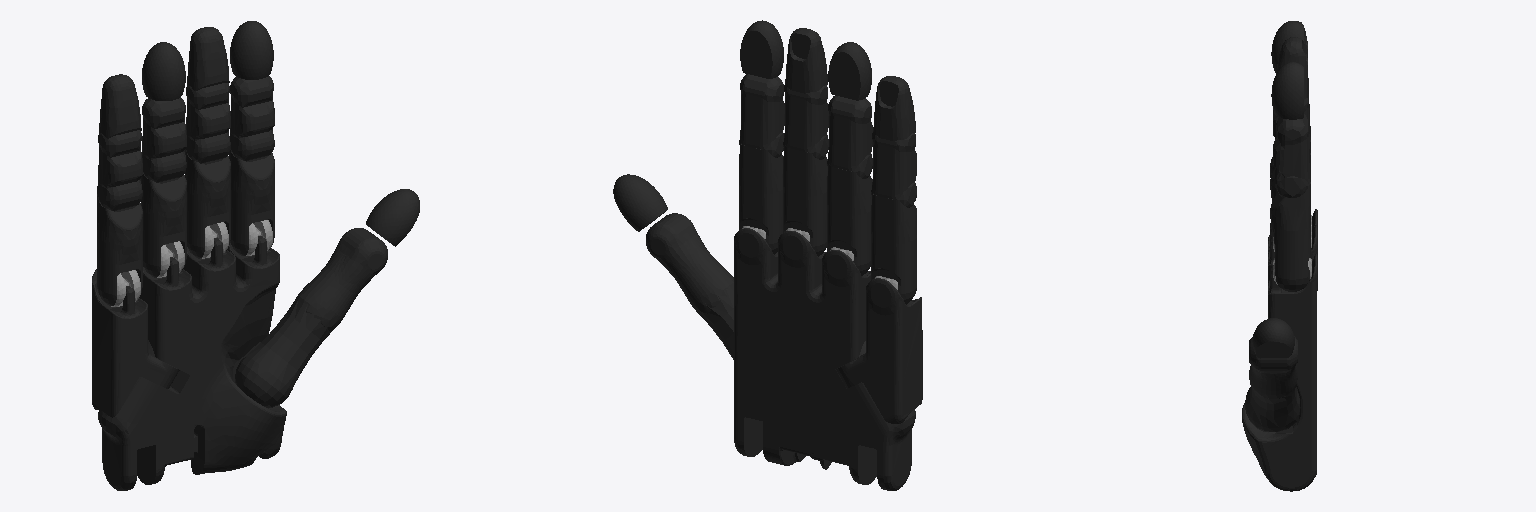
The robot description file, URDF, robot "shadowhand":
<robot name="shadowhand">
  <material name="Blue">
    <color rgba="0.0 0.0 0.8 1.0" />
  </material>
  <material name="Green">
    <color rgba="0.0 0.8 0.0 1.0" />
  </material>
  <material name="Grey">
    <color rgba="0.2 0.2 0.2 1.0" />
  </material>
  <material name="LightGrey">
    <color rgba="0.6 0.6 0.6 1.0" />
  </material>
  <material name="Red">
    <color rgba="0.8 0.0 0.0 1.0" />
  </material>
  <material name="White">
    <color rgba="1.0 1.0 1.0 1.0" />
  </material>
  <link name="palm">
    <inertial>
      <origin rpy="0 0 0" xyz="0 0 0.035" />
      <mass value="0.3" />
      <inertia ixx="0.5" ixy="0.0" ixz="0.0" iyy="0.5" iyz="0.0" izz="0.3" />
    </inertial>
    <visual>
      <origin rpy="0 0 0" xyz="0 0 0" />
      <geometry name="palm_visual">
        <mesh filename="meshes/palm.obj" scale="0.1 0.1 0.1" />
      </geometry>
      <material name="Grey" />
    </visual>
    <collision>
      <origin rpy="0 0 0" xyz="0.005 0 0.035" />
      <geometry name="palm_collision_geom">
        <box size="0.05 0.02 0.07" />
      </geometry>
    </collision>
  </link>
  <link name="ffknuckle">
    <inertial>
      <origin rpy="0 0 0" xyz="0 0 0" />

      <mass value="0.008" />
      <inertia ixx="0.0" ixy="0.0" ixz="0.0" iyy="0.1" iyz="0.0" izz="0.0" />
    </inertial>
    <visual>
      <origin rpy="0 0 0" xyz="0 0 0.0005" />
      <geometry name="knuckle_visual">
        <mesh filename="meshes/knuckle.obj" scale="0.1 0.1 0.1" />
      </geometry>
      <material name="LightGrey" />
    </visual>
    <collision>
      <origin rpy="0 0 0" xyz="0 0 0" />
      <geometry name="knuckle_collision_geom">
        <box size="0.005 0.005 0.005" />
      </geometry>
    </collision>
  </link>
  <joint name="FFJ4" type="revolute">
    <parent link="palm" />
    <child link="ffknuckle" />

    <origin rpy="0 0 0" xyz="0.033 0 0.095" />
    <axis xyz="0 -1 0" />
    <limit effort="100" lower="-0.43633231299858238" upper="0.43633231299858238" velocity="1.0" />
    <dynamics damping="50.5" />
  </joint>
  <link name="ffproximal">
    <inertial>
      <mass value="0.014" />
      <origin xyz="0 0 0.0225" />
      <inertia ixx="0.1" ixy="0.0" ixz="0.0" iyy="0.1" iyz="0.0" izz="0.0" />
    </inertial>
    <visual>
      <origin rpy="0 0 0" xyz="0 0 0" />
      <geometry name="proximal_visual">
        <mesh filename="meshes/F3.obj" scale="0.1 0.1 0.1" />
      </geometry>
      <material name="Grey" />
    </visual>
    <collision>
      <origin rpy="0 0 0 " xyz="0 0 0.025" />
      <geometry name="proximal_collision_geom">
        <box size="0.008 0.008 0.04" />
      </geometry>
    </collision>
  </link>
  <joint name="FFJ3" type="revolute">
    <parent link="ffknuckle" />
    <child link="ffproximal" />
    <origin rpy="0 0 0" xyz="0 0 0" />
    <axis xyz="1 0 0" />
    <limit effort="100" lower="-1.57079632679" upper="1.57079632679" velocity="1.0" />
    <dynamics damping="50.5" />
  </joint>
  <link name="ffmiddle">
    <inertial>
      <origin rpy="0 0 0" xyz="0 0 0.0125" />
      <mass value="0.012" />
      <inertia ixx="0.1" ixy="0.0" ixz="0.0" iyy="0.1" iyz="0.0" izz="0.0" />
    </inertial>
    <visual>
      <origin rpy="0 0 0" xyz="0 0 0" />
      <geometry name="middle_visual">
        <mesh filename="meshes/F2.obj" scale="0.1 0.1 0.1" />
      </geometry>
      <material name="Grey" />
    </visual>
    <collision>
      <origin rpy="0 0 0" xyz="0 0 0.0125" />
      <geometry name="middle_collision_geom">
        <box size="0.008 0.008 0.015" />
      </geometry>
    </collision>
  </link>
  <joint name="FFJ2" type="revolute">
    <parent link="ffproximal" />
    <child link="ffmiddle" />
    <origin rpy="0 0 0" xyz="0 0 0.045" />
    <axis xyz="1 0 0" />
    <limit effort="100" lower="-1.57079632679" upper="1.57079632679" velocity="1.0" />
    <dynamics damping="50.5" />
  </joint>
  <link name="ffdistal">
    <inertial>
      <mass value="0.010" />
      <origin xyz="0 0 0.013" />
      <inertia ixx="0.1" ixy="0.0" ixz="0.0" iyy="0.1" iyz="0.0" izz="0.0" />
    </inertial>
    <visual>
      <origin rpy="0 0 0" xyz="0 0 0" />
      <geometry name="distal_visual">
        <mesh filename="meshes/distal_ellipsoid.obj" scale="0.1 0.1 0.1" />
      </geometry>
      <material name="Grey" />
    </visual>

    <collision>
      <origin rpy="0 0 0" xyz="0 0 0" />
      <geometry name="distal_collision_geom">
        <mesh filename="meshes/distal_ellipsoid.obj" scale="0.1 0.1 0.1" />
      </geometry>
    </collision>
  </link>
  <joint name="FFJ1" type="revolute">
    <parent link="ffmiddle" />
    <child link="ffdistal" />
    <origin rpy="0 0 0" xyz="0 0 0.025" />
    <axis xyz="1 0 0" />
    <limit effort="100" lower="-1.57079632679" upper="1.57079632679" velocity="1.0" />
    <dynamics damping="50.5" />
  </joint>
  <link name="fftip">
    <inertial>
      <mass value="0.001" />
      <inertia ixx="0.0" ixy="0.0" ixz="0.0" iyy="0.0" iyz="0.0" izz="0.0" />
    </inertial>
  </link>
  <joint name="FFtip" type="fixed">
    <parent link="ffdistal" />
    <child link="fftip" />
    <origin rpy="0 0 0" xyz="0 0 0.026" />
  </joint>
  <link name="mfknuckle">
    <inertial>
      <origin rpy="0 0 0" xyz="0 0 0" />

      <mass value="0.008" />
      <inertia ixx="0.0" ixy="0.0" ixz="0.0" iyy="0.1" iyz="0.0" izz="0.0" />
    </inertial>
    <visual>
      <origin rpy="0 0 0" xyz="0 0 0.0005" />
      <geometry name="knuckle_visual">
        <mesh filename="meshes/knuckle.obj" scale="0.1 0.1 0.1" />
      </geometry>
      <material name="LightGrey" />
    </visual>
    <collision>
      <origin rpy="0 0 0" xyz="0 0 0" />
      <geometry name="knuckle_collision_geom">
        <box size="0.005 0.005 0.005" />
      </geometry>
    </collision>
  </link>
  <joint name="MFJ4" type="revolute">
    <parent link="palm" />
    <child link="mfknuckle" />

    <origin rpy="0 0 0" xyz="0.011 0 0.099" />
    <axis xyz="0 -1 0" />
    <limit effort="100" lower="-0.43633231299858238" upper="0.43633231299858238" velocity="1.0" />
    <dynamics damping="50.5" />
  </joint>
  <link name="mfproximal">
    <inertial>
      <mass value="0.014" />
      <origin xyz="0 0 0.0225" />
      <inertia ixx="0.1" ixy="0.0" ixz="0.0" iyy="0.1" iyz="0.0" izz="0.0" />
    </inertial>
    <visual>
      <origin rpy="0 0 0" xyz="0 0 0" />
      <geometry name="proximal_visual">
        <mesh filename="meshes/F3.obj" scale="0.1 0.1 0.1" />
      </geometry>
      <material name="Grey" />
    </visual>
    <collision>
      <origin rpy="0 0 0 " xyz="0 0 0.025" />
      <geometry name="proximal_collision_geom">
        <box size="0.008 0.008 0.04" />
      </geometry>
    </collision>
  </link>
  <joint name="MFJ3" type="revolute">
    <parent link="mfknuckle" />
    <child link="mfproximal" />
    <origin rpy="0 0 0" xyz="0 0 0" />
    <axis xyz="1 0 0" />
    <limit effort="100" lower="-1.57079632679" upper="1.57079632679" velocity="1.0" />
    <dynamics damping="50.5" />
  </joint>
  <link name="mfmiddle">
    <inertial>
      <origin rpy="0 0 0" xyz="0 0 0.0125" />
      <mass value="0.012" />
      <inertia ixx="0.1" ixy="0.0" ixz="0.0" iyy="0.1" iyz="0.0" izz="0.0" />
    </inertial>
    <visual>
      <origin rpy="0 0 0" xyz="0 0 0" />
      <geometry name="middle_visual">
        <mesh filename="meshes/F2.obj" scale="0.1 0.1 0.1" />
      </geometry>
      <material name="Grey" />
    </visual>
    <collision>
      <origin rpy="0 0 0" xyz="0 0 0.0125" />
      <geometry name="middle_collision_geom">
        <box size="0.008 0.008 0.015" />
      </geometry>
    </collision>
  </link>
  <joint name="MFJ2" type="revolute">
    <parent link="mfproximal" />
    <child link="mfmiddle" />
    <origin rpy="0 0 0" xyz="0 0 0.045" />
    <axis xyz="1 0 0" />
    <limit effort="100" lower="-1.57079632679" upper="1.57079632679" velocity="1.0" />
    <dynamics damping="50.5" />
  </joint>
  <link name="mfdistal">
    <inertial>
      <mass value="0.010" />
      <origin xyz="0 0 0.013" />
      <inertia ixx="0.1" ixy="0.0" ixz="0.0" iyy="0.1" iyz="0.0" izz="0.0" />
    </inertial>
    <visual>
      <origin rpy="0 0 0" xyz="0 0 0" />
      <geometry name="distal_visual">
        <mesh filename="meshes/F1.obj" scale="0.1 0.1 0.1" />
      </geometry>
      <material name="Grey" />
    </visual>

    <collision>
      <origin rpy="0 0 0" xyz="0 0 0" />
      <geometry name="distal_collision_geom">
        <mesh filename="meshes/F1.obj" scale="0.1 0.1 0.1" />
      </geometry>
    </collision>
  </link>
  <joint name="MFJ1" type="revolute">
    <parent link="mfmiddle" />
    <child link="mfdistal" />
    <origin rpy="0 0 0" xyz="0 0 0.025" />
    <axis xyz="1 0 0" />
    <limit effort="100" lower="-1.57079632679" upper="1.57079632679" velocity="1.0" />
    <dynamics damping="50.5" />
  </joint>
  <link name="mftip">
    <inertial>
      <mass value="0.001" />
      <inertia ixx="0.0" ixy="0.0" ixz="0.0" iyy="0.0" iyz="0.0" izz="0.0" />
    </inertial>
  </link>
  <joint name="MFtip" type="fixed">
    <parent link="mfdistal" />
    <child link="mftip" />
    <origin rpy="0 0 0" xyz="0 0 0.026" />
  </joint>
  <link name="rfknuckle">
    <inertial>
      <origin rpy="0 0 0" xyz="0 0 0" />

      <mass value="0.008" />
      <inertia ixx="0.0" ixy="0.0" ixz="0.0" iyy="0.1" iyz="0.0" izz="0.0" />
    </inertial>
    <visual>
      <origin rpy="0 0 0" xyz="0 0 0.0005" />
      <geometry name="knuckle_visual">
        <mesh filename="meshes/knuckle.obj" scale="0.1 0.1 0.1" />
      </geometry>
      <material name="LightGrey" />
    </visual>
    <collision>
      <origin rpy="0 0 0" xyz="0 0 0" />
      <geometry name="knuckle_collision_geom">
        <box size="0.005 0.005 0.005" />
      </geometry>
    </collision>
  </link>
  <joint name="RFJ4" type="revolute">
    <parent link="palm" />
    <child link="rfknuckle" />

    <origin rpy="0 0 0" xyz="-0.011 0 0.095" />
    <axis xyz="0 1 0" />
    <limit effort="100" lower="-0.43633231299858238" upper="0.43633231299858238" velocity="1.0" />
    <dynamics damping="50.5" />
  </joint>
  <link name="rfproximal">
    <inertial>
      <mass value="0.014" />
      <origin xyz="0 0 0.0225" />
      <inertia ixx="0.1" ixy="0.0" ixz="0.0" iyy="0.1" iyz="0.0" izz="0.0" />
    </inertial>
    <visual>
      <origin rpy="0 0 0" xyz="0 0 0" />
      <geometry name="proximal_visual">
        <mesh filename="meshes/F3.obj" scale="0.1 0.1 0.1" />
      </geometry>
      <material name="Grey" />
    </visual>
    <collision>
      <origin rpy="0 0 0 " xyz="0 0 0.025" />
      <geometry name="proximal_collision_geom">
        <box size="0.008 0.008 0.04" />
      </geometry>
    </collision>
  </link>
  <joint name="RFJ3" type="revolute">
    <parent link="rfknuckle" />
    <child link="rfproximal" />
    <origin rpy="0 0 0" xyz="0 0 0" />
    <axis xyz="1 0 0" />
    <limit effort="100" lower="0" upper="1.57079632679" velocity="1.0" />
    <dynamics damping="50.5" />
  </joint>
  <link name="rfmiddle">
    <inertial>
      <origin rpy="0 0 0" xyz="0 0 0.0125" />
      <mass value="0.012" />
      <inertia ixx="0.1" ixy="0.0" ixz="0.0" iyy="0.1" iyz="0.0" izz="0.0" />
    </inertial>
    <visual>
      <origin rpy="0 0 0" xyz="0 0 0" />
      <geometry name="middle_visual">
        <mesh filename="meshes/F2.obj" scale="0.1 0.1 0.1" />
      </geometry>
      <material name="Grey" />
    </visual>
    <collision>
      <origin rpy="0 0 0" xyz="0 0 0.0125" />
      <geometry name="middle_collision_geom">
        <box size="0.008 0.008 0.015" />
      </geometry>
    </collision>
  </link>
  <joint name="RFJ2" type="revolute">
    <parent link="rfproximal" />
    <child link="rfmiddle" />
    <origin rpy="0 0 0" xyz="0 0 0.045" />
    <axis xyz="1 0 0" />
    <limit effort="100" lower="-1.57079632679" upper="1.57079632679" velocity="1.0" />
    <dynamics damping="50.5" />
  </joint>
  <link name="rfdistal">
    <inertial>
      <mass value="0.010" />
      <origin xyz="0 0 0.013" />
      <inertia ixx="0.1" ixy="0.0" ixz="0.0" iyy="0.1" iyz="0.0" izz="0.0" />
    </inertial>
    <visual>
      <origin rpy="0 0 0" xyz="0 0 0" />
      <geometry name="distal_visual">
        <mesh filename="meshes/distal_ellipsoid.obj" scale="0.1 0.1 0.1" />
      </geometry>
      <material name="Grey" />
    </visual>

    <collision>
      <origin rpy="0 0 0" xyz="0 0 0" />
      <geometry name="distal_collision_geom">
        <mesh filename="meshes/distal_ellipsoid.obj" scale="0.1 0.1 0.1" />
      </geometry>
    </collision>
  </link>
  <joint name="RFJ1" type="revolute">
    <parent link="rfmiddle" />
    <child link="rfdistal" />
    <origin rpy="0 0 0" xyz="0 0 0.025" />
    <axis xyz="1 0 0" />
    <limit effort="100" lower="-1.57079632679" upper="1.57079632679" velocity="1.0" />
    <dynamics damping="50.5" />
  </joint>
  <link name="rftip">
    <inertial>
      <mass value="0.001" />
      <inertia ixx="0.0" ixy="0.0" ixz="0.0" iyy="0.0" iyz="0.0" izz="0.0" />
    </inertial>
  </link>
  <joint name="RFtip" type="fixed">
    <parent link="rfdistal" />
    <child link="rftip" />
    <origin rpy="0 0 0" xyz="0 0 0.026" />
  </joint>
  <link name="lfmetacarpal">
    <inertial>
      <origin rpy="0 0 0" xyz="0 0 0.04" />
      <mass value="0.075" />
      <inertia ixx="0.1" ixy="0.0" ixz="0.0" iyy="0.1" iyz="0.0" izz="0.1" />
    </inertial>
    <visual>
      <origin rpy="0 0 0" xyz="0 0 0" />
      <geometry name="lfmetacarpal_visual">
        <mesh filename="meshes/lfmetacarpal.obj" scale="0.1 0.1 0.1" />
      </geometry>
      <material name="Grey" />
    </visual>
    <collision>
      <origin rpy="0 0 0" xyz="0 0 0.04" />
      <geometry name="lfmetacarpal_collision_geom">
        <box size="0.008 0.008 0.03" />
      </geometry>
    </collision>
  </link>
  <joint name="LFJ5" type="revolute">
    <parent link="palm" />
    <child link="lfmetacarpal" />
    <origin rpy="0 0 0" xyz="-0.033 0 0.02071" />
    <axis xyz="0.573576436 0 0.819152044" />
    <limit effort="100" lower="-0.69813170079773179" upper="0.69813170079773179" velocity="1.0" />
    <dynamics damping="50.5" />
  </joint>
  <link name="lfknuckle">
    <inertial>
      <origin rpy="0 0 0" xyz="0 0 0.06579" />
      <mass value="0.008" />
      <inertia ixx="0.1" ixy="0.0" ixz="0.0" iyy="0.1" iyz="0.0" izz="0.1" />
    </inertial>
    <visual>
      <origin rpy="0 0 0" xyz="0 0 0" />
      <geometry name="knuckle_visual">
        <mesh filename="meshes/knuckle.obj" scale="0.1 0.1 0.1" />
      </geometry>
      <material name="LightGrey" />
    </visual>
    <collision>
      <origin rpy="0 0 0" xyz="0 0 0" />
      <geometry name="knuckle_collision_geom">
        <box size="0.005 0.005 0.005" />
      </geometry>
    </collision>
  </link>
  <joint name="LFJ4" type="revolute">
    <parent link="lfmetacarpal" />
    <child link="lfknuckle" />
    <origin rpy="0 0 0" xyz="0 0 0.06579" />
    <axis xyz="0 1 0" />
    <limit effort="100" lower="-0.43633231299858238" upper="0.43633231299858238" velocity="1.0" />
    <dynamics damping="50.5" />
  </joint>
  <link name="lfproximal">
    <inertial>
      <mass value="0.014" />
      <origin xyz="0 0 0.0225" />
      <inertia ixx="0.1" ixy="0.0" ixz="0.0" iyy="0.1" iyz="0.0" izz="0.0" />
    </inertial>
    <visual>
      <origin rpy="0 0 0" xyz="0 0 0" />
      <geometry name="proximal_visual">
        <mesh filename="meshes/F3.obj" scale="0.1 0.1 0.1" />
      </geometry>
      <material name="Grey" />
    </visual>
    <collision>
      <origin rpy="0 0 0 " xyz="0 0 0.025" />
      <geometry name="proximal_collision_geom">
        <box size="0.008 0.008 0.04" />
      </geometry>
    </collision>
  </link>
  <joint name="LFJ3" type="revolute">
    <parent link="lfknuckle" />
    <child link="lfproximal" />
    <origin rpy="0 0 0" xyz="0 0 0" />
    <axis xyz="1 0 0" />
    <limit effort="100" lower="-1.57079632679" upper="1.57079632679" velocity="1.0" />
    <dynamics damping="50.5" />
  </joint>
  <link name="lfmiddle">
    <inertial>
      <origin rpy="0 0 0" xyz="0 0 0.0125" />
      <mass value="0.012" />
      <inertia ixx="0.1" ixy="0.0" ixz="0.0" iyy="0.1" iyz="0.0" izz="0.0" />
    </inertial>
    <visual>
      <origin rpy="0 0 0" xyz="0 0 0" />
      <geometry name="middle_visual">
        <mesh filename="meshes/F2.obj" scale="0.1 0.1 0.1" />
      </geometry>
      <material name="Grey" />
    </visual>
    <collision>
      <origin rpy="0 0 0" xyz="0 0 0.0125" />
      <geometry name="middle_collision_geom">
        <box size="0.008 0.008 0.015" />
      </geometry>
    </collision>
  </link>
  <joint name="LFJ2" type="revolute">
    <parent link="lfproximal" />
    <child link="lfmiddle" />
    <origin rpy="0 0 0" xyz="0 0 0.045" />
    <axis xyz="1 0 0" />
    <limit effort="100" lower="-1.57079632679" upper="1.57079632679" velocity="1.0" />
    <dynamics damping="50.5" />
  </joint>
  <link name="lfdistal">
    <inertial>
      <mass value="0.010" />
      <origin xyz="0 0 0.013" />
      <inertia ixx="0.1" ixy="0.0" ixz="0.0" iyy="0.1" iyz="0.0" izz="0.0" />
    </inertial>
    <visual>
      <origin rpy="0 0 0" xyz="0 0 0" />
      <geometry name="distal_visual">
        <mesh filename="meshes/F1.obj" scale="0.1 0.1 0.1" />
      </geometry>
      <material name="Grey" />
    </visual>

    <collision>
      <origin rpy="0 0 0" xyz="0 0 0" />
      <geometry name="distal_collision_geom">
        <mesh filename="meshes/F1.obj" scale="0.1 0.1 0.1" />
      </geometry>
    </collision>
  </link>
  <joint name="LFJ1" type="revolute">
    <parent link="lfmiddle" />
    <child link="lfdistal" />
    <origin rpy="0 0 0" xyz="0 0 0.025" />
    <axis xyz="1 0 0" />
    <limit effort="100" lower="-1.57079632679" upper="1.57079632679" velocity="1.0" />
    <dynamics damping="50.5" />
  </joint>
  <link name="lftip">
    <inertial>
      <mass value="0.001" />
      <inertia ixx="0.0" ixy="0.0" ixz="0.0" iyy="0.0" iyz="0.0" izz="0.0" />
    </inertial>
  </link>
  <joint name="LFtip" type="fixed">
    <parent link="lfdistal" />
    <child link="lftip" />
    <origin rpy="0 0 0" xyz="0 0 0.026" />
  </joint>
  <link name="thbase">
    <inertial>
      <mass value="0.010" />
      <origin rpy="0 0 0" xyz="0 0 0" />
      <inertia ixx="0.0" ixy="0.0" ixz="0.0" iyy="0.0" iyz="0.0" izz="0.1" />
    </inertial>
  </link>
  <joint name="THJ5" type="revolute">
    <parent link="palm" />
    <child link="thbase" />
    <origin rpy="0 0.785398163397 0" xyz="0.034 -0.0085 0.029" />
    <axis xyz="0 0 -1.0" />
    <limit effort="100" lower="-1.047" upper="1.047" velocity="1.0" />
    <dynamics damping="50.5" />
  </joint>
  <link name="thproximal">
    <inertial>
      <mass value="0.016" />
      <origin rpy="0 0 0" xyz="0 0 0.019" />
      <inertia ixx="0.1" ixy="0.0" ixz="0.0" iyy="0.1" iyz="0.0" izz="0.1" />
    </inertial>
    <visual>
      <origin rpy="0 0 0" xyz="0 0 0" />
      <geometry name="thproximal_visual">
        <mesh filename="meshes/TH3_z.obj" scale="0.1 0.1 0.1" />
      </geometry>
      <material name="shadow_thproximal_material">
        <color rgba="0.2 0.2 0.2 1.0" />
      </material>
    </visual>
    <collision>
      <origin rpy="0 0 0" xyz="0 0 0.019" />
      <geometry name="thproximal_collision_geom">
        <box size="0.008 0.008 0.020" />
      </geometry>
    </collision>
  </link>
  <joint name="THJ4" type="revolute">
    <parent link="thbase" />
    <child link="thproximal" />
    <origin rpy="0 0 0" xyz="0 0 0" />
    <axis xyz="1.0 0 0" />
    <limit effort="100" lower="-1.309" upper="1.309" velocity="1.0" />
    <dynamics damping="50.5" />
  </joint>
  <link name="thhub">
    <inertial>
      <mass value="0.002" />
      <origin rpy="0 0 0" xyz="0 0 0" />
      <inertia ixx="0.1" ixy="0.0" ixz="0.0" iyy="0.1" iyz="0.0" izz="0.1" />
    </inertial>
  </link>
  <joint name="THJ3" type="revolute">
    <parent link="thproximal" />
    <child link="thhub" />
    <origin rpy="0 0 0" xyz="0 0 0.038" />
    <axis xyz="1 0 0" />
    <limit effort="100" lower="-0.2618" upper="0.2618" velocity="1.0" />
    <dynamics damping="50.5" />
  </joint>
  <link name="thmiddle">
    <inertial>
      <mass value="0.016" />
      <origin rpy="0 0 0" xyz="0 0 0.016" />
      <inertia ixx="0.1" ixy="0.0" ixz="0.0" iyy="0.1" iyz="0.0" izz="0.1" />
    </inertial>
    <visual>
      <origin rpy="0 0 0" xyz="0 0 0" />
      <geometry name="thmiddle_visual">
        <mesh filename="meshes/TH2_z.obj" scale="0.1 0.1 0.1" />
      </geometry>
      <material name="shadow_thmiddle_material">
        <color rgba="0.2 0.2 0.2 1.0" />
      </material>
    </visual>
    <collision>
      <origin rpy="0 0 0 " xyz="0 0 0.016" />
      <geometry name="thmiddle_collision_geom">
        <box size="0.008 0.008 0.015" />
      </geometry>
    </collision>
  </link>
  <joint name="THJ2" type="revolute">
    <parent link="thhub" />
    <child link="thmiddle" />
    <origin rpy="0 0 0" xyz="0 0 0" />
    <axis xyz="0 -1 0" />
    <limit effort="100" lower="-0.5237" upper="0.5237" velocity="1.0" />
    <dynamics damping="50.5" />
  </joint>
  <link name="thdistal">
    <inertial>
      <mass value="0.016" />
      <origin rpy="0 0 0" xyz="0 0 0.01375" />
      <inertia ixx="0.1" ixy="0.0" ixz="0.0" iyy="0.1" iyz="0.0" izz="0.1" />
    </inertial>
    <visual>
      <origin rpy="0 0 0" xyz="0 0.002 0.0025" />
      <geometry name="thdistal_visual">
        <mesh filename="meshes/distal_ellipsoid.obj" scale="0.1 0.1 0.1" />
      </geometry>
      <material name="shadow_thmiddle_material">
        <color rgba="0.2 0.2 0.2 1.0" />
      </material>
    </visual>
    <collision>
      <origin rpy="0 0 0 " xyz="0 0.002 0.0025" />
      <geometry name="thmiddle_collision_geom">
        <mesh filename="meshes/distal_ellipsoid.obj" scale="0.1 0.1 0.1" />
      </geometry>
    </collision>
  </link>
  <joint name="THJ1" type="revolute">
    <parent link="thmiddle" />
    <child link="thdistal" />
    <origin rpy="0 0 -1.570796327" xyz="0 0 0.032" />
    <axis xyz="1 0 0" />
    <limit effort="100" lower="-1.57079632679" upper="1.57079632679" velocity="1.0" />
    <dynamics damping="50.5" />
  </joint>
  <link name="thtip">
    <inertial>
      <mass value="0.001" />
      <inertia ixx="0.0" ixy="0.0" ixz="0.0" iyy="0.0" iyz="0.0" izz="0.0" />
    </inertial>
  </link>
  <joint name="thtip" type="fixed">
    <parent link="thdistal" />
    <child link="thtip" />
    <origin rpy="0 0 0" xyz="0 0 0.0275" />
  </joint>
  </robot>

--- Facts derived from the render (not from the file) ---
Views: 3 orthographic renders of the robot side by side, from view 1: azimuth 30°, elevation 25°; view 2: azimuth 150°, elevation 25°; view 3: azimuth 270°, elevation 25°.
Robot: shadowhand — 28 links, 27 joints (22 revolute, 5 fixed); root link palm; default pose: all joints at 0.
Links seen in each view (by area): view 1: palm, lfmetacarpal, thproximal, thmiddle, lfproximal, rfproximal, mfproximal, ffproximal, rfmiddle, ffmiddle, lfmiddle, mfmiddle (+9 smaller); view 2: palm, lfmetacarpal, thmiddle, lfproximal, rfproximal, mfproximal, ffproximal, rfmiddle, ffmiddle, lfmiddle, mfmiddle, mfdistal (+5 smaller); view 3: palm, ffproximal, ffmiddle, thmiddle, thproximal, ffdistal, thdistal, mfdistal, rfdistal.
Boxes of the visible links, x1,y1,x2,y2 form: palm: (98,236,286,490); lfmetacarpal: (92,269,179,417); thproximal: (235,297,332,407); thmiddle: (295,228,387,330); lfproximal: (97,196,142,305); rfproximal: (141,173,186,277); mfproximal: (185,149,230,258); ffproximal: (229,150,274,255); rfmiddle: (142,97,186,182); ffmiddle: (230,76,274,160); lfmiddle: (97,130,142,210); mfmiddle: (186,83,230,163); palm: (734,228,915,490); lfmetacarpal: (835,278,922,423); thmiddle: (646,213,733,315); lfproximal: (871,194,916,304); rfproximal: (827,165,872,275); mfproximal: (783,146,827,256); ffproximal: (739,144,783,254); rfmiddle: (827,95,872,178); ffmiddle: (739,74,784,157); lfmiddle: (871,132,916,207); mfmiddle: (783,85,828,159); mfdistal: (785,28,827,93); palm: (1242,212,1317,491); ffproximal: (1270,182,1310,291); ffmiddle: (1273,114,1310,197); thmiddle: (1249,336,1297,398); thproximal: (1245,386,1299,431); ffdistal: (1271,62,1303,119); thdistal: (1252,318,1294,357); mfdistal: (1276,37,1307,98); rfdistal: (1271,21,1303,72).
Size in the robot's own frame: 0.1543 by 0.0343 by 0.2096 metres.
Meshes: 9 distinct files referenced, 21 mesh visuals loaded (9 OBJ).